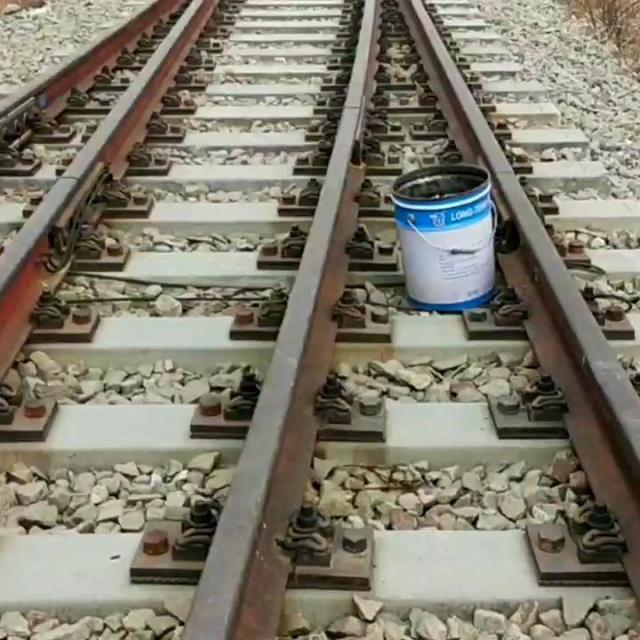rail: (402, 1, 640, 593), (186, 1, 378, 640), (1, 1, 216, 376), (1, 1, 185, 119)
